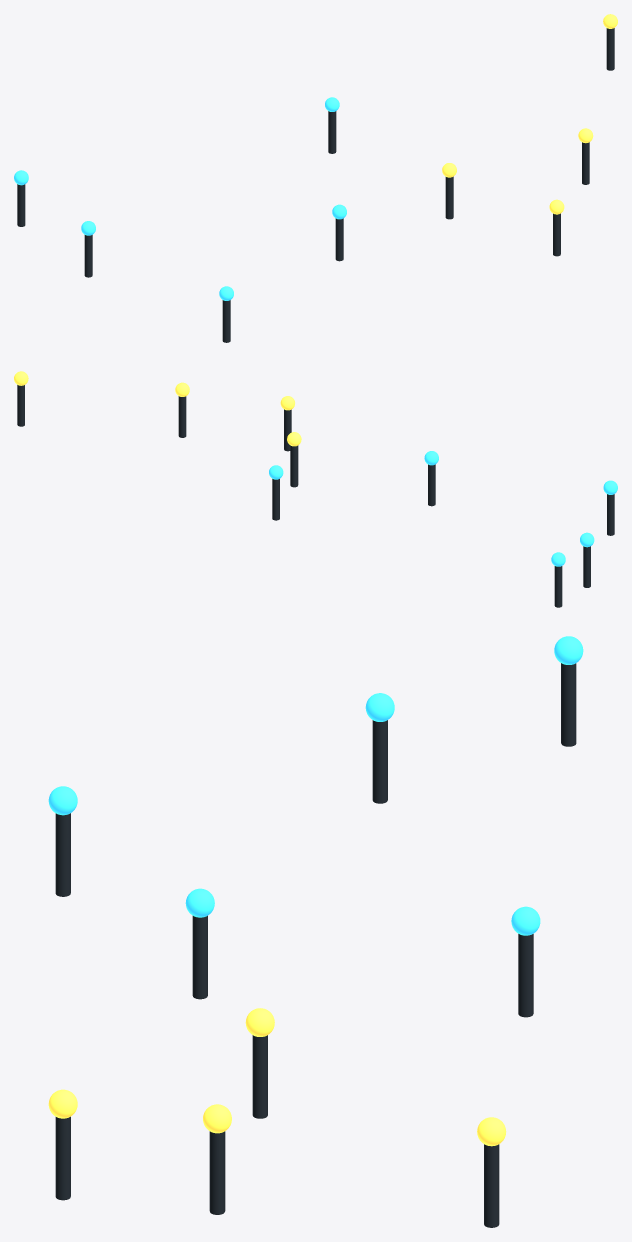
3 views of the same model, one above another, from view 1: azimuth 30°, elevation 25°; view 2: azimuth 150°, elevation 25°; view 3: azimuth 270°, elevation 25° (orthographic). The views are drawn at different scales.
Visible parts, largest first — view 1: no part large enough to name; view 2: AI_PM_route_blue_pylon_00, AI_PM_route_orange_pylon_06, AI_PM_route_orange_pylon_08; view 3: AI_PM_route_orange_pylon_08, AI_PM_route_blue_pylon_04, AI_PM_route_blue_pylon_00, AI_PM_route_blue_pylon_03, AI_PM_route_orange_pylon_07, AI_PM_route_blue_pylon_01, AI_PM_route_orange_pylon_06, AI_PM_route_blue_pylon_02, AI_PM_route_orange_pylon_09.
Part boxes in pixels (x1=…): AI_PM_route_blue_pylon_00: x1=554, y1=566, x2=562, y2=607; AI_PM_route_orange_pylon_06: x1=290, y1=445, x2=298, y2=487; AI_PM_route_orange_pylon_08: x1=178, y1=396, x2=186, y2=437; AI_PM_route_orange_pylon_08: x1=209, y1=1131, x2=225, y2=1214; AI_PM_route_blue_pylon_04: x1=518, y1=934, x2=533, y2=1017; AI_PM_route_blue_pylon_00: x1=561, y1=663, x2=576, y2=746; AI_PM_route_blue_pylon_03: x1=192, y1=915, x2=207, y2=999; AI_PM_route_orange_pylon_07: x1=55, y1=1116, x2=70, y2=1200; AI_PM_route_blue_pylon_01: x1=372, y1=720, x2=387, y2=803; AI_PM_route_orange_pylon_06: x1=252, y1=1035, x2=267, y2=1118; AI_PM_route_blue_pylon_02: x1=55, y1=813, x2=70, y2=896; AI_PM_route_orange_pylon_09: x1=484, y1=1144, x2=499, y2=1227.
Bounding box in the file's own units: 3.07 × 0.634 × 1.25.
